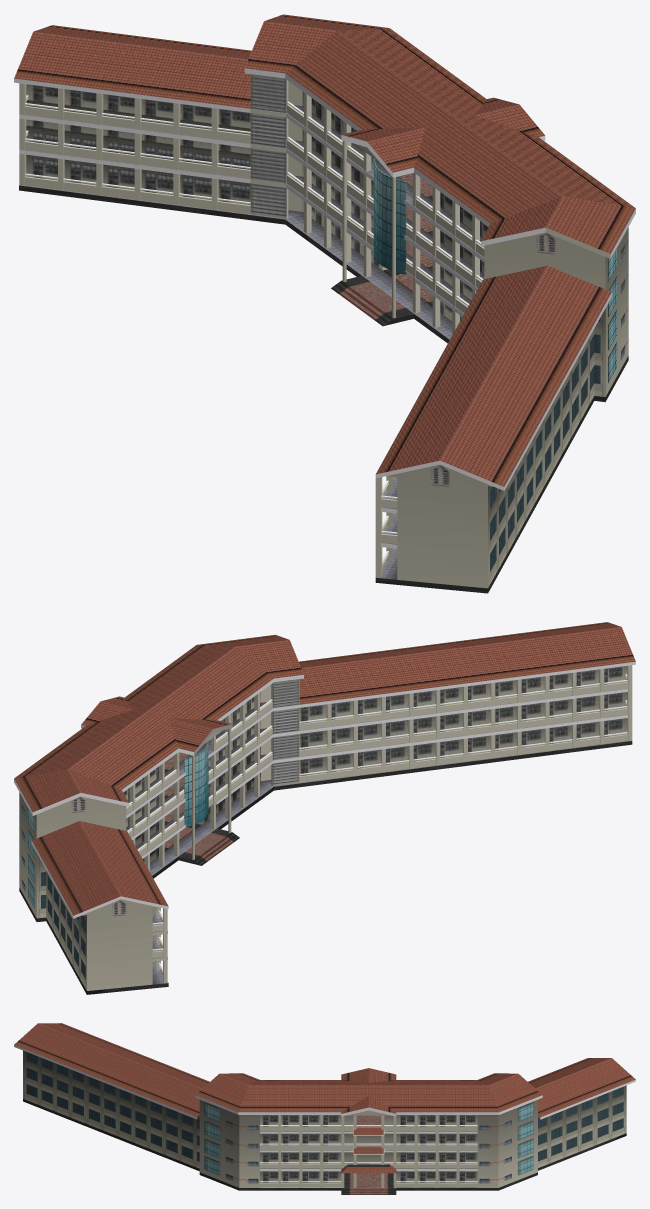
3 renders of one model, top to bottom at view 1: azimuth 30°, elevation 25°; view 2: azimuth 150°, elevation 25°; view 3: azimuth 270°, elevation 25°, orthographic. The views are drawn at different scales.
Parts seen in each view (by area): view 1: 5c779268bdd69e54386ebe87.001; view 2: 5c779268bdd69e54386ebe87.001; view 3: 5c779268bdd69e54386ebe87.001.
Boxes of the visible parts, box(x1,y1,x2,y2) form: 5c779268bdd69e54386ebe87.001: box(14, 14, 635, 593); 5c779268bdd69e54386ebe87.001: box(14, 622, 635, 994); 5c779268bdd69e54386ebe87.001: box(14, 1023, 635, 1194).
Bounding box in the file's own units: 45.34 × 17 × 106.
Materials: 1 (1 with a texture image).
